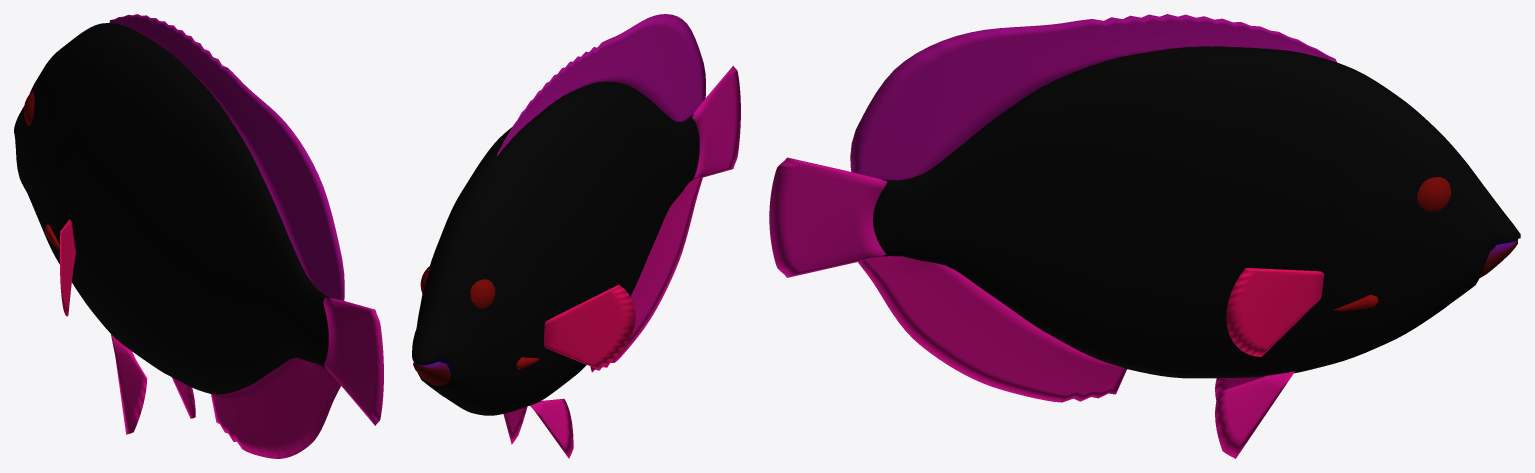
The model's file is angelfish_emperor.glb.
3 renders of one model, left to right at view 1: azimuth 30°, elevation 25°; view 2: azimuth 150°, elevation 25°; view 3: azimuth 270°, elevation 25°, orthographic. The views are drawn at different scales.
Parts seen in each view (by area): view 1: angelfish_emperor; view 2: angelfish_emperor; view 3: angelfish_emperor.
Part boxes in pixels (x1,y1,x2,y2): angelfish_emperor: (14,14,383,458); angelfish_emperor: (412,14,740,458); angelfish_emperor: (769,14,1520,458).
Size of the model in its own units: 0.1141 by 0.2204 by 0.35.
